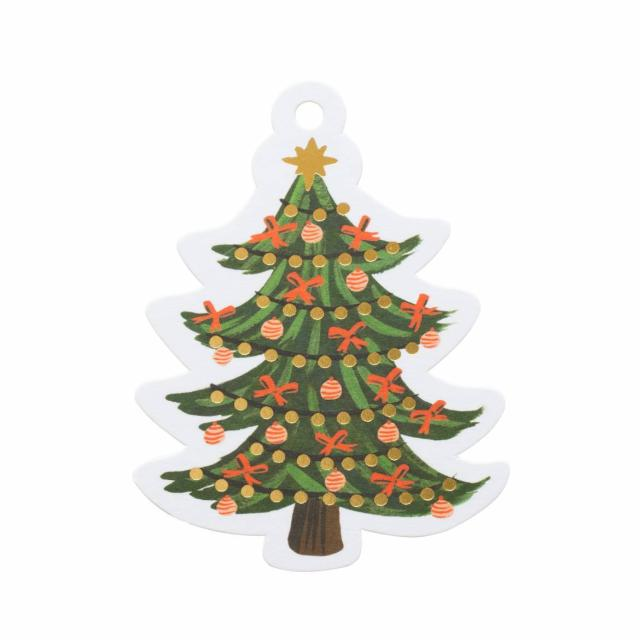Christmas-tree: (69, 70, 569, 604)
